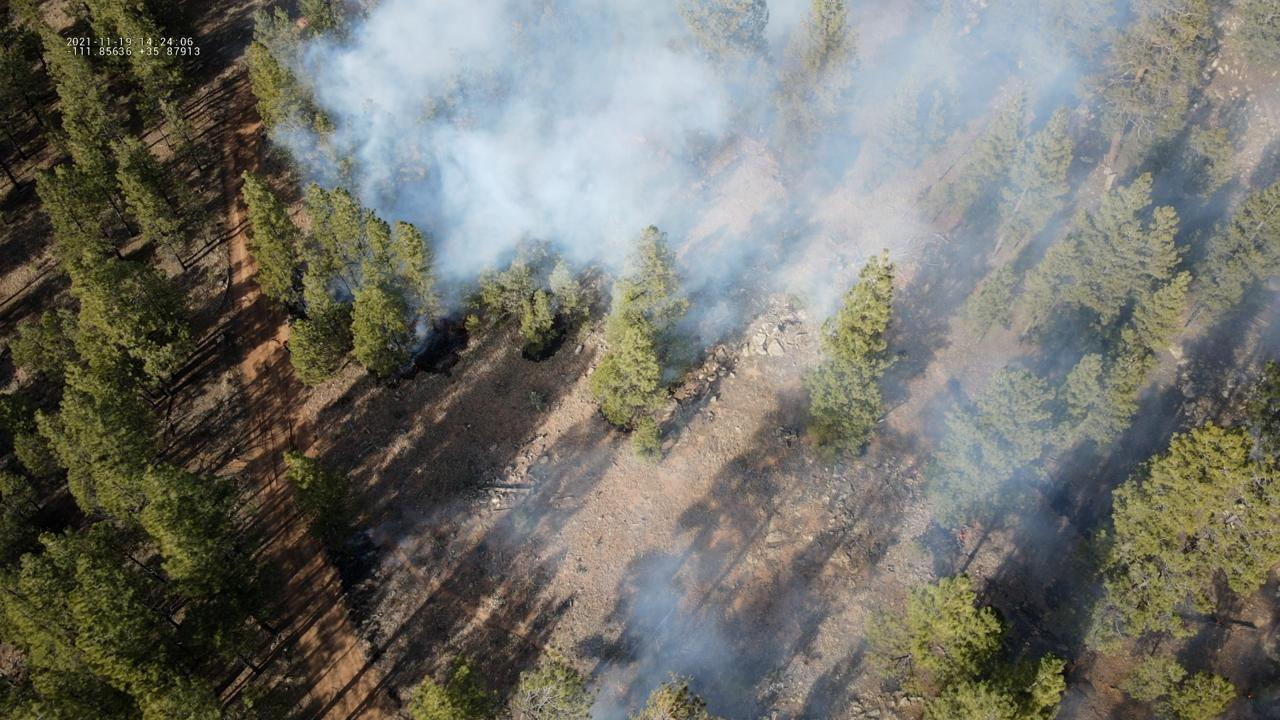fire: (958, 528, 967, 542), (1216, 617, 1225, 625), (1247, 695, 1252, 699)
smoke: (259, 0, 1280, 554), (580, 552, 819, 720), (358, 519, 433, 549)
